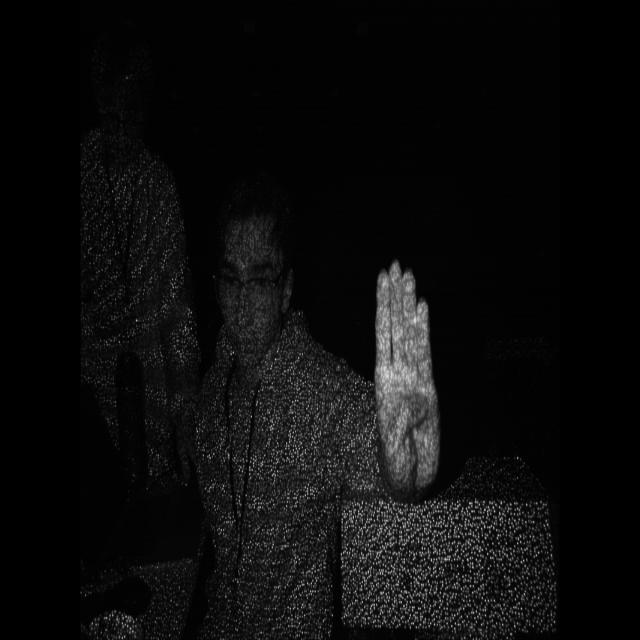B: (363, 248, 482, 509)
